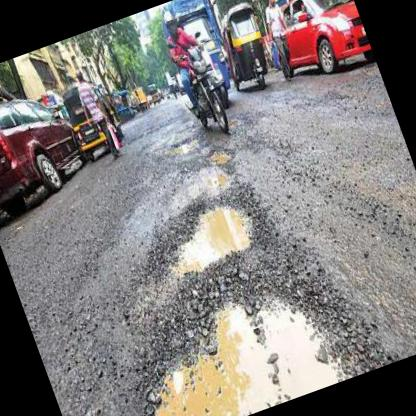pothole: (101, 235, 380, 416), (142, 180, 274, 280), (197, 160, 234, 194), (166, 131, 204, 161), (203, 138, 236, 171)
